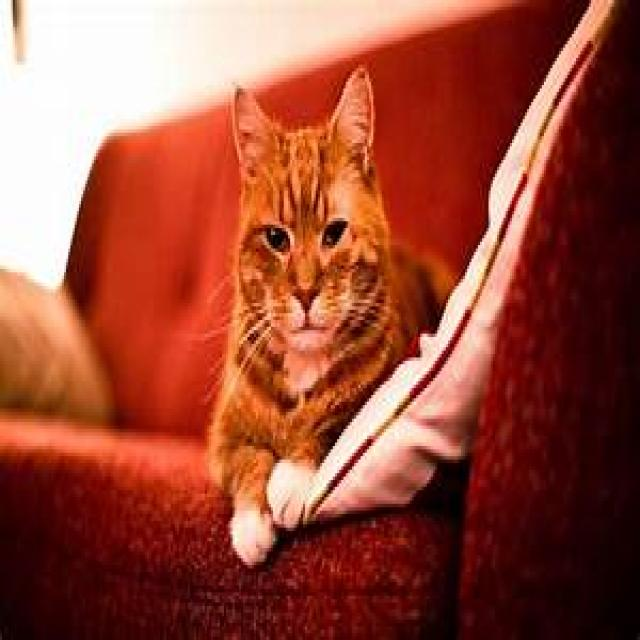cat: (204, 80, 457, 565)
